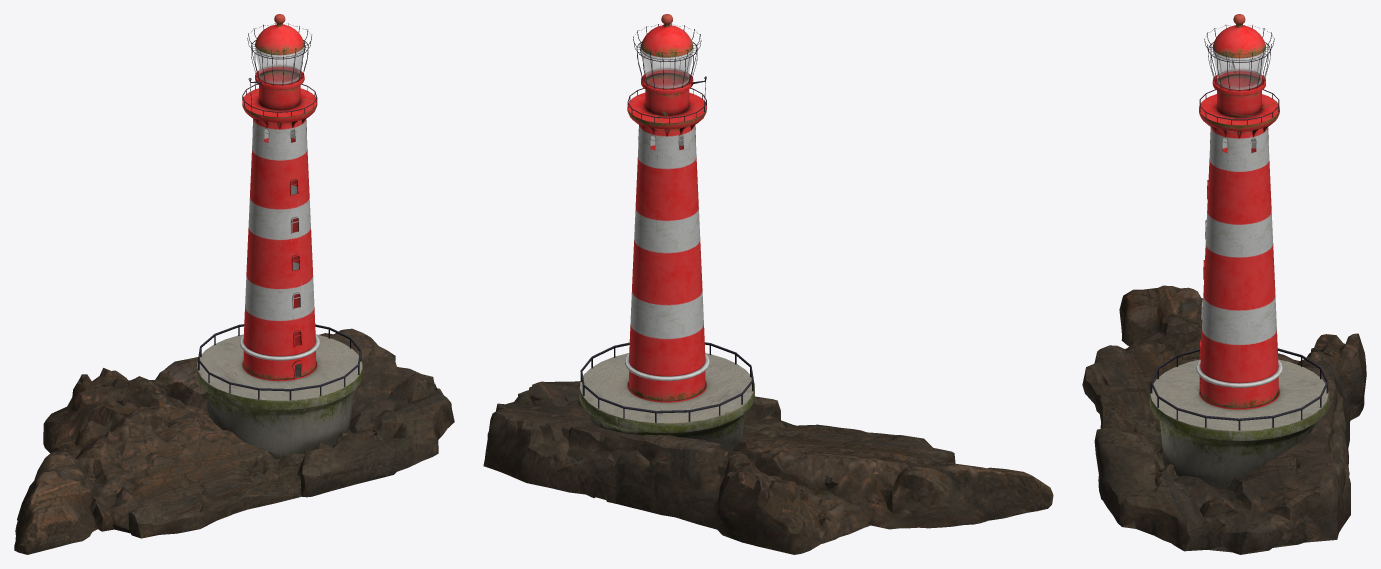
3 views of the same model, side by side, from view 1: azimuth 30°, elevation 25°; view 2: azimuth 150°, elevation 25°; view 3: azimuth 270°, elevation 25° (orthographic). The views are drawn at different scales.
Visible parts, largest first — view 1: Lighthouse; view 2: Lighthouse; view 3: Lighthouse.
Boxes of the visible parts, x1=… form: Lighthouse: x1=14, y1=14, x2=454, y2=554; Lighthouse: x1=483, y1=14, x2=1053, y2=554; Lighthouse: x1=1082, y1=14, x2=1366, y2=554.
Bounding box in the file's own units: 85.28 × 73.96 × 41.36.
4 materials, 4 textured.
